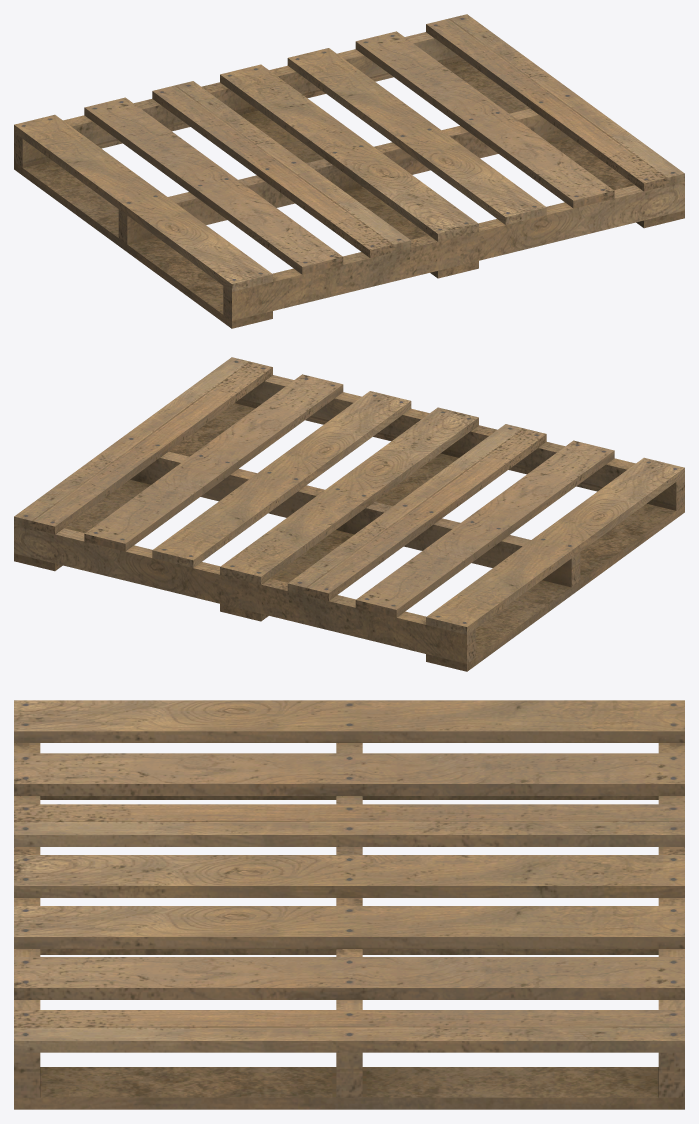
Rendered from woodpallet.DAE.
3 views of the same model, one above another, from view 1: azimuth 30°, elevation 25°; view 2: azimuth 150°, elevation 25°; view 3: azimuth 270°, elevation 25° (orthographic). The views are drawn at different scales.
Visible parts, largest first — view 1: woodpallet; view 2: woodpallet; view 3: woodpallet.
Boxes of the visible parts, x1=… form: woodpallet: x1=14, y1=14, x2=684, y2=328; woodpallet: x1=14, y1=357, x2=684, y2=671; woodpallet: x1=14, y1=700, x2=684, y2=1109.
Size of the model in its own units: 122 by 102 by 11.5.
